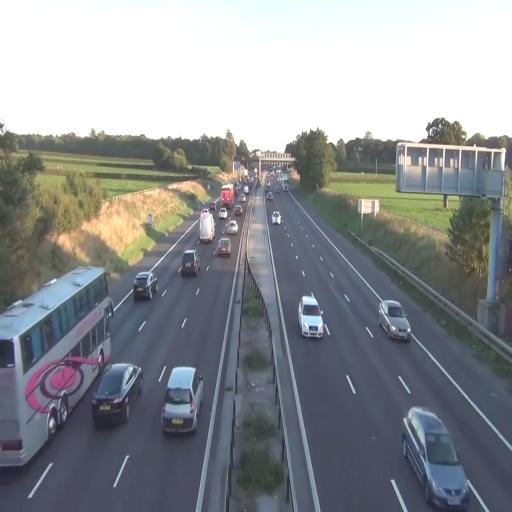vehicle: (0, 263, 114, 466), (402, 406, 470, 508), (91, 362, 143, 427), (162, 366, 204, 435), (378, 299, 410, 342), (298, 294, 325, 339), (133, 271, 157, 301), (180, 250, 200, 278), (216, 238, 232, 256), (226, 218, 238, 234), (274, 210, 281, 224)
